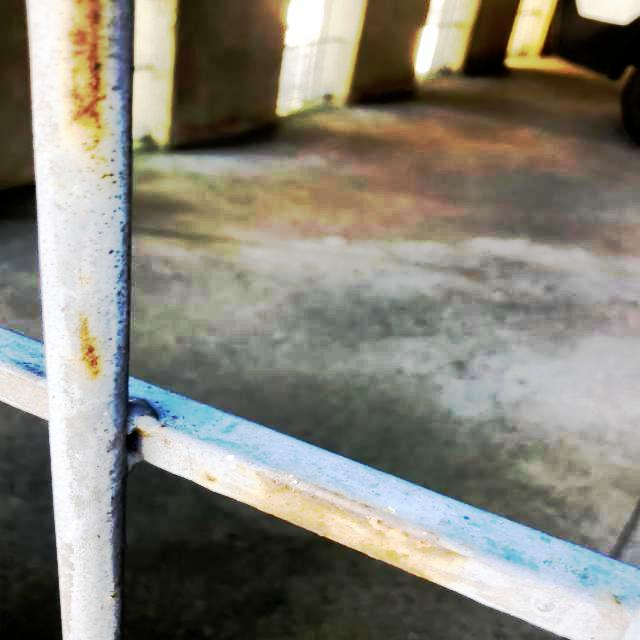Corrosion: (192, 465, 475, 594), (61, 0, 114, 180), (73, 305, 108, 385)
